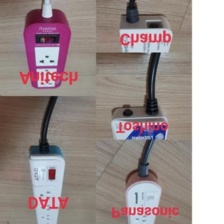three_eye_plug: (20, 3, 76, 91), (26, 142, 67, 224), (115, 10, 178, 53), (120, 164, 164, 224), (109, 99, 171, 140)
